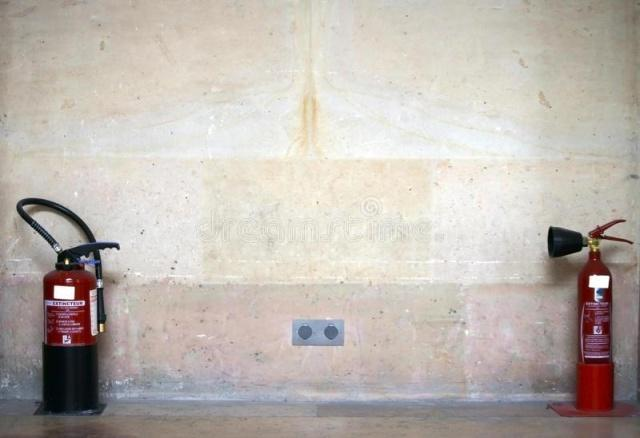APAR: (547, 218, 634, 412), (40, 241, 118, 412)
